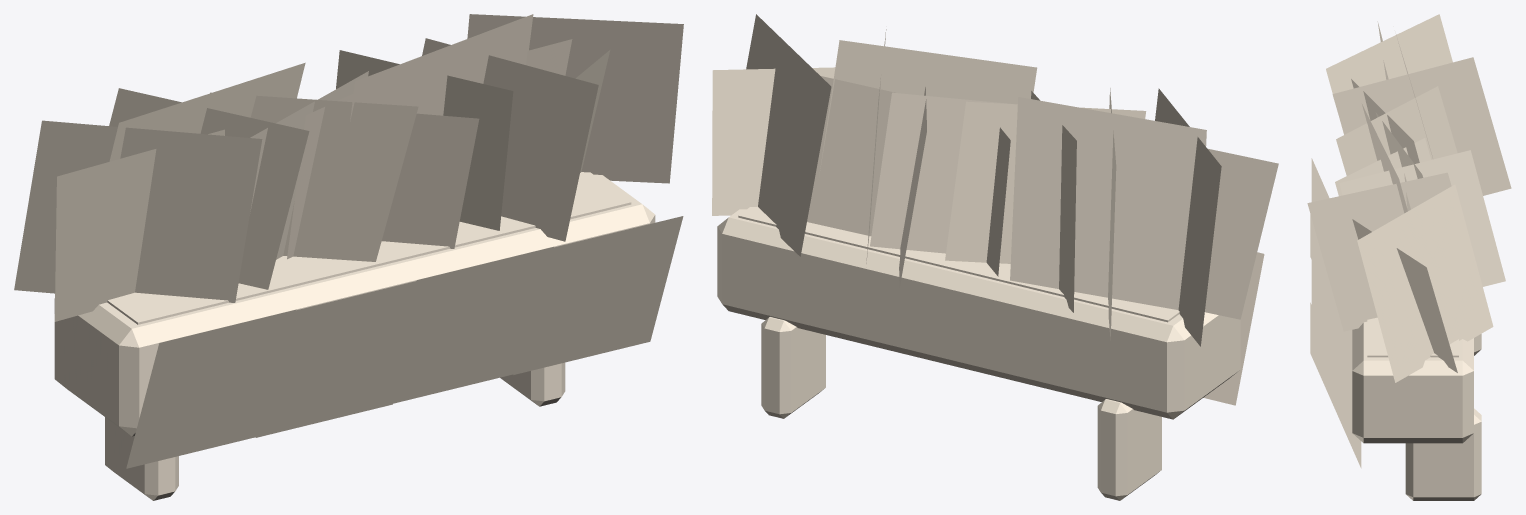
File: SM_VK_Prop_FlowerBox.fbx
3 views of the same model, side by side, from view 1: azimuth 30°, elevation 25°; view 2: azimuth 150°, elevation 25°; view 3: azimuth 270°, elevation 25° (orthographic). The views are drawn at different scales.
Parts seen in each view (by area): view 1: SM_VK_Prop_FlowerBox.001; view 2: SM_VK_Prop_FlowerBox.001; view 3: SM_VK_Prop_FlowerBox.001.
Part boxes in pixels (x1,y1,x2,y2): SM_VK_Prop_FlowerBox.001: (14,14,683,500); SM_VK_Prop_FlowerBox.001: (712,14,1278,500); SM_VK_Prop_FlowerBox.001: (1307,14,1511,500).
Bounding box in the file's own units: 1.45 × 0.8977 × 0.5361.
